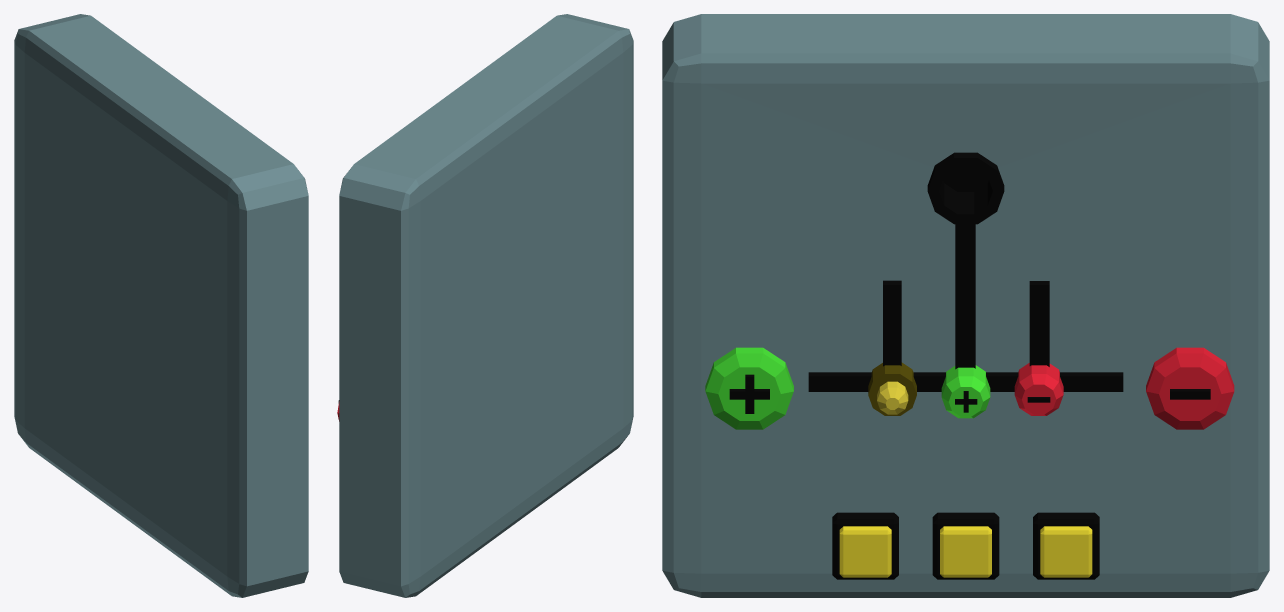
File: SlotCharger 1.fbx
The picture shows the model from 3 angles, left to right: view 1: azimuth 30°, elevation 25°; view 2: azimuth 150°, elevation 25°; view 3: azimuth 270°, elevation 25°; orthographic projection. The views are drawn at different scales.
Parts seen in each view (by area): view 1: Cube.003; view 2: Cube.003; view 3: Cube.003, Cube.001, Cylinder.004, Cylinder.003, Cube.004, Cube.008, Cube.006, Cylinder.001, Cylinder, Cylinder.002, Cube.005, Cube.002 (+1 smaller).
Part boxes in pixels (x1,y1,x2,y2): Cube.003: (14, 14, 308, 597); Cube.003: (339, 14, 633, 597); Cube.003: (662, 14, 1269, 597); Cube.001: (808, 224, 1123, 391); Cylinder.004: (1146, 347, 1234, 429); Cylinder.003: (705, 347, 793, 429); Cube.004: (839, 526, 891, 577); Cube.008: (1040, 526, 1092, 577); Cube.006: (940, 526, 991, 577); Cylinder.001: (941, 365, 990, 418); Cylinder: (868, 362, 916, 415); Cylinder.002: (1014, 363, 1063, 415); Cube.005: (932, 512, 999, 579); Cube.002: (832, 512, 898, 579).
Size of the model in its own units: 471 by 1796 by 1815.
